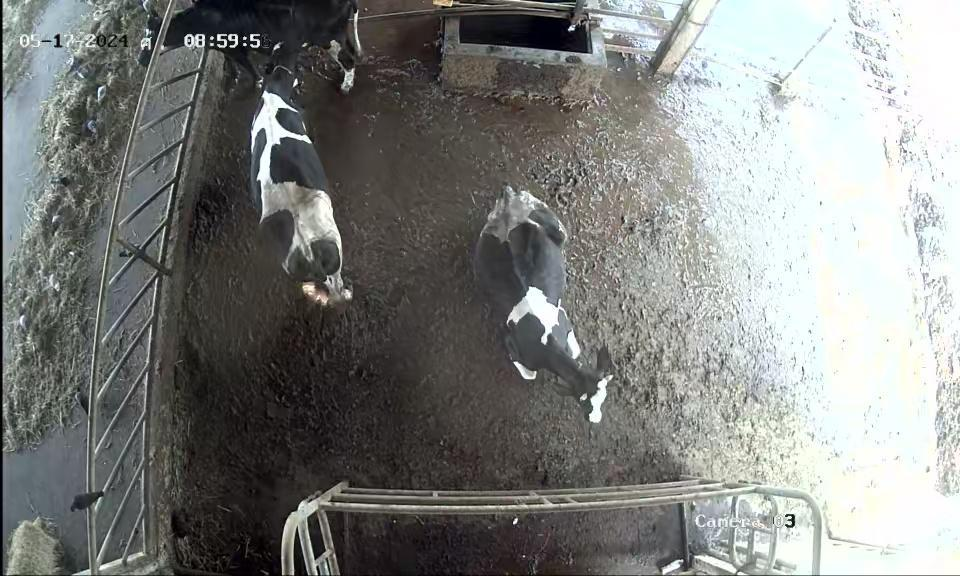eat: (91, 0, 248, 82)
lay: (457, 159, 627, 442)
stand: (236, 35, 368, 325)
